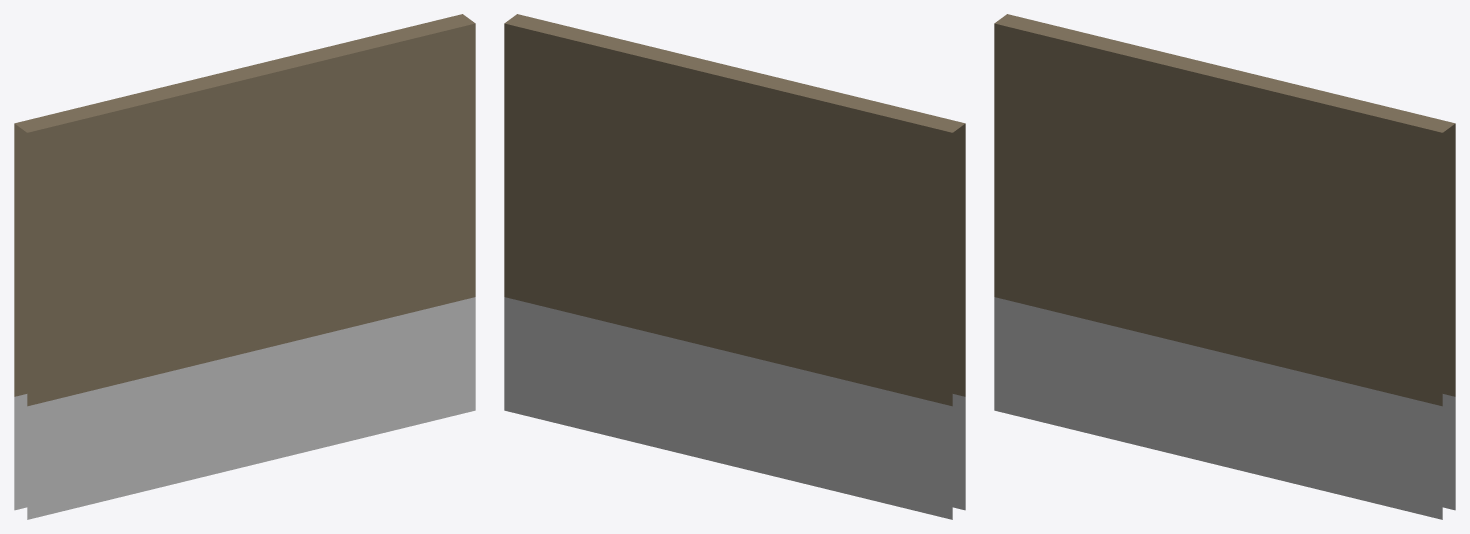
File: SM_Wall_400.FBX
3 views of the same model, side by side, from view 1: azimuth 30°, elevation 25°; view 2: azimuth 150°, elevation 25°; view 3: azimuth 330°, elevation 25° (orthographic).
Parts seen in each view (by area): view 1: SM_Wall_400; view 2: SM_Wall_400; view 3: SM_Wall_400.
Boxes of the visible parts, left/top/right/bottom form: SM_Wall_400: left=14, top=14, right=475, bottom=519; SM_Wall_400: left=504, top=14, right=965, bottom=519; SM_Wall_400: left=994, top=14, right=1455, bottom=519.
Bounding box in the file's own units: 400 × 20 × 330.
